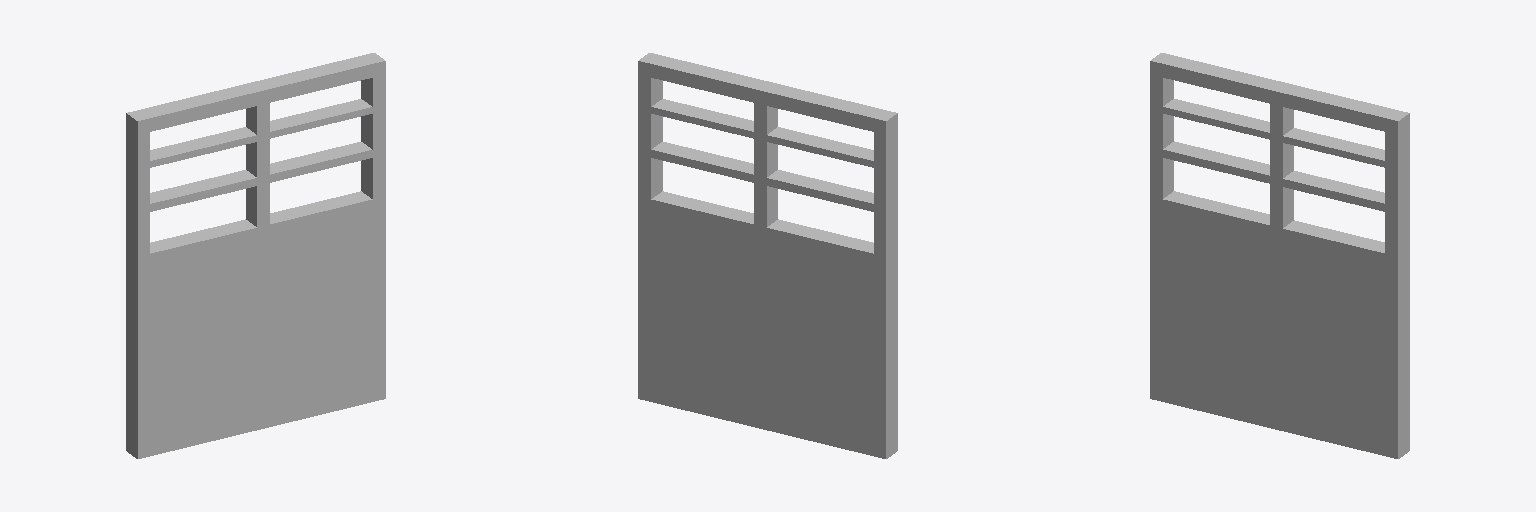
The model's file is Puerta03.obj.
The picture shows the model from 3 angles: view 1: azimuth 30°, elevation 25°; view 2: azimuth 150°, elevation 25°; view 3: azimuth 330°, elevation 25°; orthographic projection.
Parts seen in each view (by area): view 1: Cuadro:polySurface8; view 2: Cuadro:polySurface8; view 3: Cuadro:polySurface8.
Part boxes in pixels (left/top/right/bottom): Cuadro:polySurface8: left=126, top=53, right=385, bottom=458; Cuadro:polySurface8: left=638, top=53, right=897, bottom=458; Cuadro:polySurface8: left=1150, top=53, right=1409, bottom=458.
Bounding box in the file's own units: 1.18 × 1.54 × 0.0936.